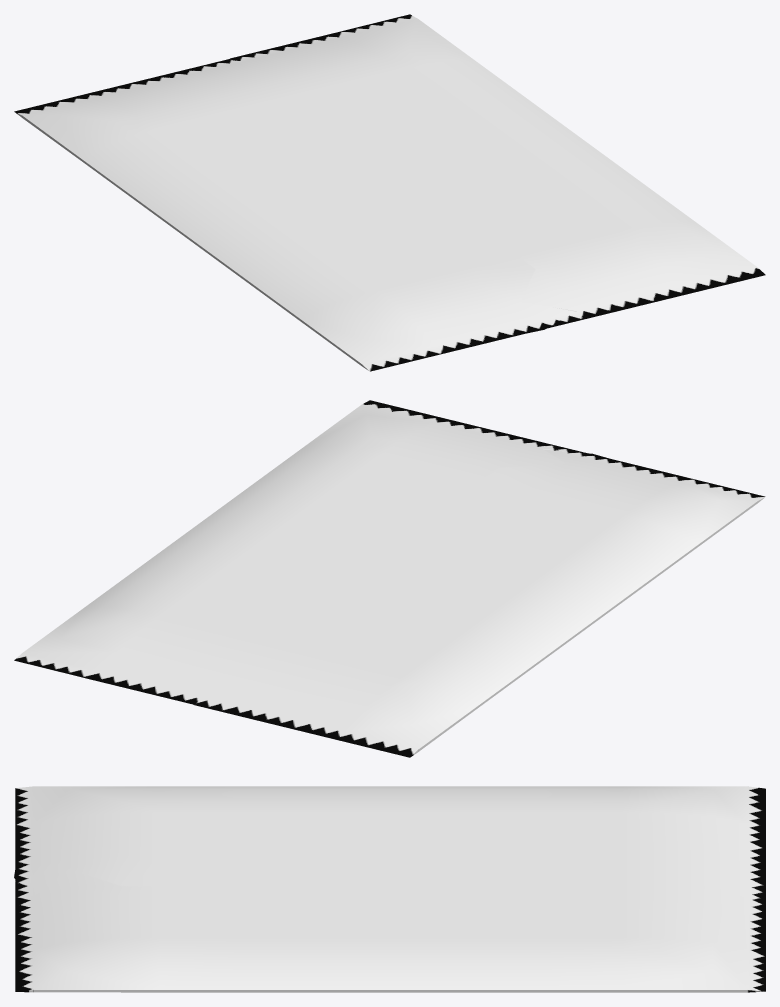
The model's file is Banggac.fbx.
3 views of the same model, one above another, from view 1: azimuth 30°, elevation 25°; view 2: azimuth 150°, elevation 25°; view 3: azimuth 270°, elevation 25° (orthographic). The views are drawn at different scales.
Visible parts, largest first — view 1: Vo_bang_gac_1, Vo_bang_gac_2; view 2: Vo_bang_gac_1, Vo_bang_gac_2; view 3: Vo_bang_gac_2, Vo_bang_gac_1.
Boxes of the visible parts, x1,y1,x2,y2 form: Vo_bang_gac_1: (14, 59, 575, 371); Vo_bang_gac_2: (230, 14, 765, 328); Vo_bang_gac_1: (194, 449, 765, 757); Vo_bang_gac_2: (14, 400, 586, 704); Vo_bang_gac_2: (15, 869, 765, 992); Vo_bang_gac_1: (14, 786, 765, 898).
Size of the model in its own units: 6.73 by 0.4064 by 10.49.
1 material, 1 textured.
